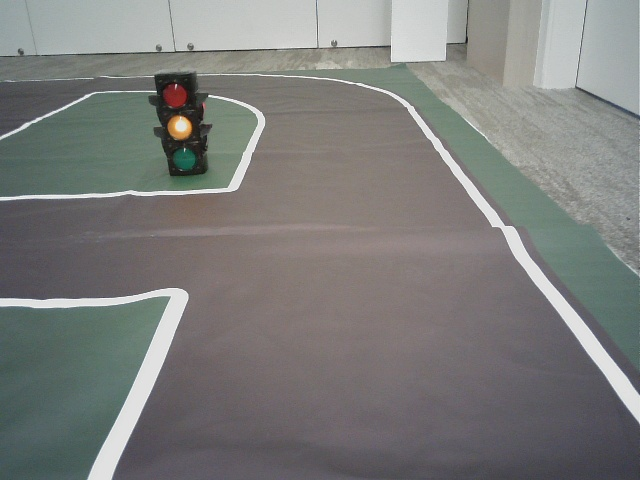yellow: (157, 75, 201, 172)
